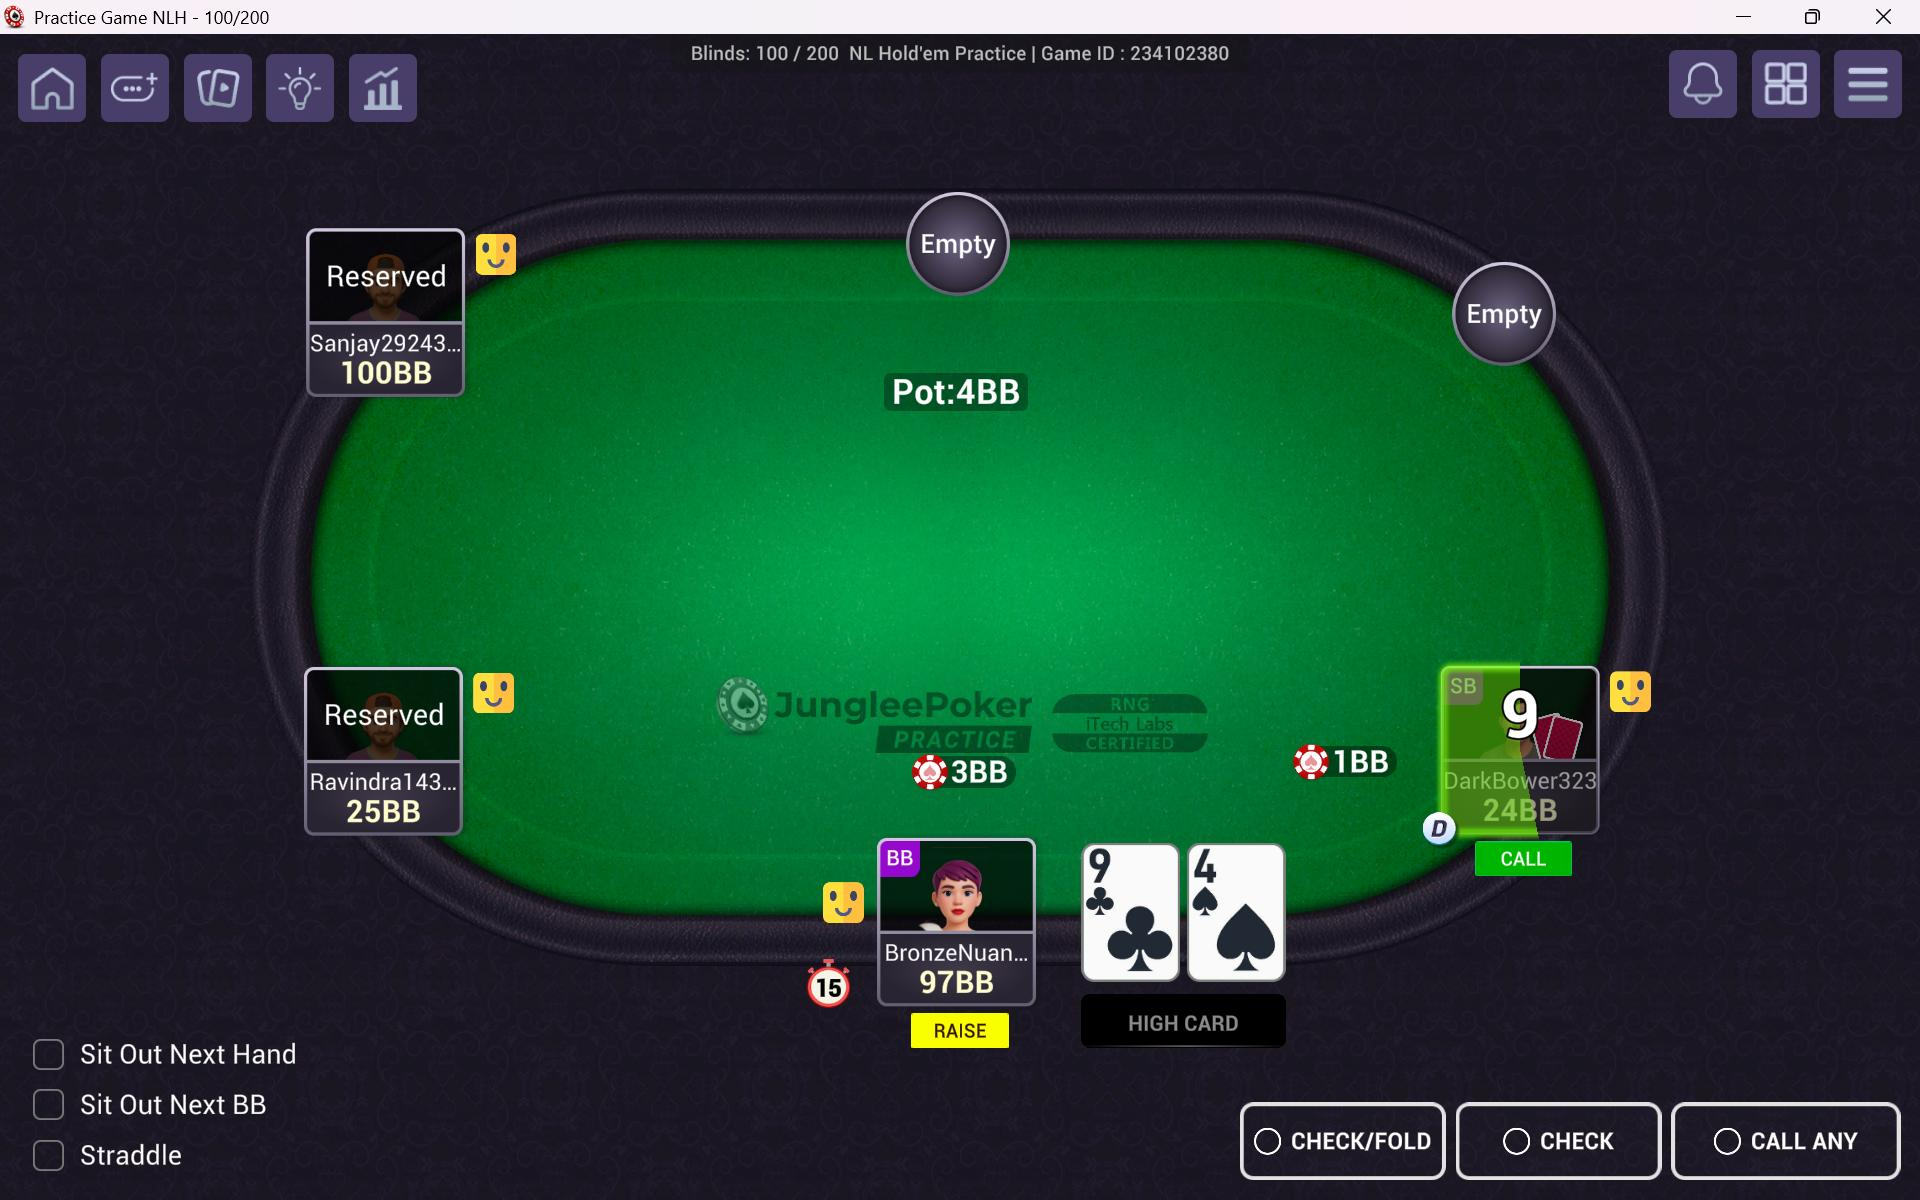card1_rank: (1085, 841, 1150, 892)
card1_suite_club: (1103, 896, 1175, 983)
card2_rank: (1190, 846, 1240, 888)
card2_suite_spades: (1212, 883, 1286, 979)
my_bet: (910, 745, 1016, 795)
my_stack: (881, 958, 1031, 997)
position_BB: (882, 836, 930, 886)
position_SB: (1443, 661, 1489, 716)
total_pot: (885, 368, 1035, 419)
villian1_name: (305, 753, 455, 799)
villian1_stack: (312, 784, 462, 832)
villian2_name: (307, 324, 460, 361)
villian2_stack: (315, 354, 455, 390)
villian5_bet: (1292, 741, 1393, 782)
villian5_name: (1440, 759, 1591, 795)
villian5_stack: (1447, 794, 1591, 831)
